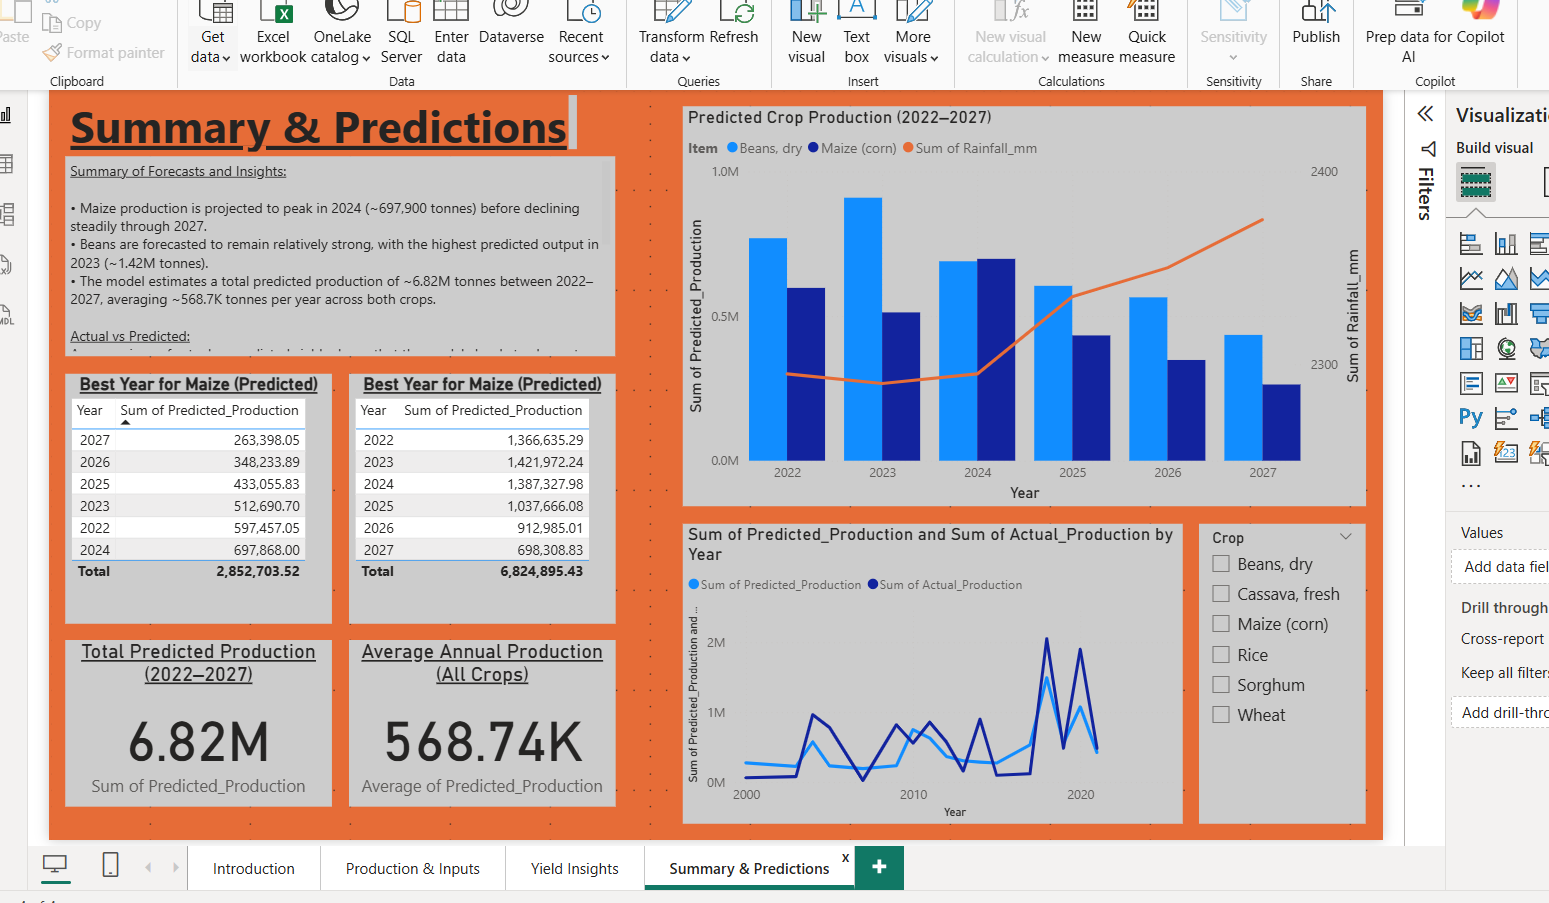

This screenshot's page, from the dashboard's own definition file:
{"tool":"powerbi","page":{"name":"Summary & Predictions","canvas":[1280,720],"ordinal":3},"visuals":[{"type":"textbox","box":[16,0,496,64],"z":0},{"type":"textbox","box":[16,64,528,192],"z":1000},{"type":"lineChart","fields":{"Category":["predicted_vs_actual.Year"],"Y":["Sum(predicted_vs_actual.Predicted_Production)","Sum(predicted_vs_actual.Actual_Production)"]},"box":[608,416,480,288],"z":2000},{"type":"slicer","fields":{"Values":["predicted_vs_actual.Crop"]},"box":[1104,416,160,288],"z":3000},{"type":"card","title":"Total Predicted Production (2022–2027)","fields":{"Values":["Sum(prediction_2022_2028.Predicted_Production)"]},"box":[16,528,256,160],"z":4000},{"type":"card","title":"Average Annual Production (All Crops)","fields":{"Values":["Avg(prediction_2022_2028.Predicted_Production)"]},"box":[288,528,256,160],"z":5000},{"type":"tableEx","title":"Best Year for Maize (Predicted)","fields":{"Values":["prediction_2022_2028.Year","Sum(prediction_2022_2028.Predicted_Production)"]},"box":[16,272,256,240],"z":6000},{"type":"tableEx","title":"Best Year for Maize (Predicted)","fields":{"Values":["prediction_2022_2028.Year","Sum(prediction_2022_2028.Predicted_Production)"]},"box":[288,272,256,240],"z":7000},{"type":"lineClusteredColumnComboChart","title":"Predicted Crop Production (2022–2027)","fields":{"Category":["prediction_2022_2028.Year"],"Y":["Sum(prediction_2022_2028.Predicted_Production)"],"Series":["prediction_2022_2028.Item"],"Y2":["Sum(prediction_2022_2028.Rainfall_mm)"]},"box":[608,16,656,384],"z":8000}]}

Visuals, with their boxes on the page's 1280x720 design canvas (x1, y1, x2, y2). These are canvas units, not pixel positions in the 1549x903 screenshot, which may show the page scaled, cropped or inside an application window:
textbox: bbox(16, 0, 512, 64)
textbox: bbox(16, 64, 544, 256)
lineChart - predicted_vs_actual.Year x Sum(predicted_vs_actual.Predicted_Production): bbox(608, 416, 1088, 704)
slicer - predicted_vs_actual.Crop: bbox(1104, 416, 1264, 704)
"Total Predicted Production (2022–2027)" card: bbox(16, 528, 272, 688)
"Average Annual Production (All Crops)" card: bbox(288, 528, 544, 688)
"Best Year for Maize (Predicted)" tableEx: bbox(16, 272, 272, 512)
"Best Year for Maize (Predicted)" tableEx: bbox(288, 272, 544, 512)
"Predicted Crop Production (2022–2027)" lineClusteredColumnComboChart: bbox(608, 16, 1264, 400)
